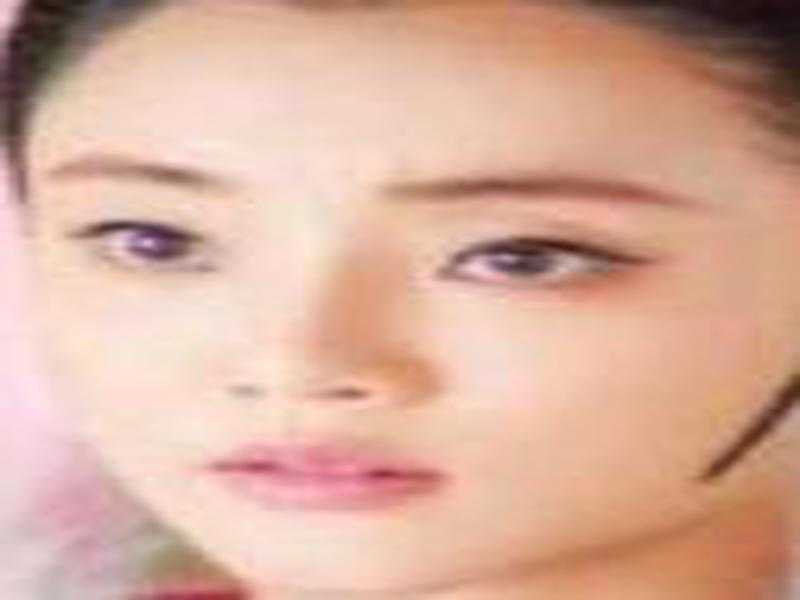without_mask: (29, 67, 785, 591)
